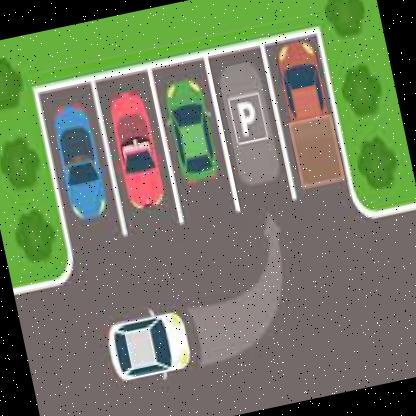Car: (270, 40, 356, 213), (48, 99, 115, 227), (106, 84, 168, 214), (102, 306, 199, 389), (162, 70, 222, 188)
Empty: (209, 51, 296, 212)
